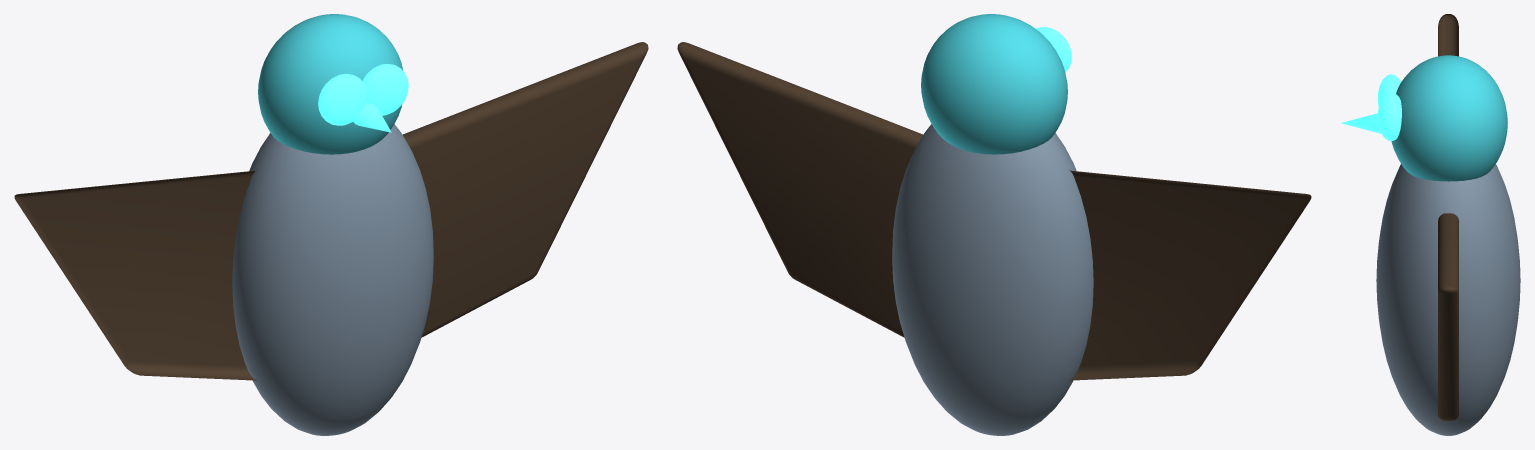
File: avian_v7.glb
The picture shows the model from 3 angles, left to right: view 1: azimuth 30°, elevation 25°; view 2: azimuth 150°, elevation 25°; view 3: azimuth 270°, elevation 25°; orthographic projection. The views are drawn at different scales.
Parts seen in each view (by area): view 1: HAWK_BODY_PRIMARY, HAWK_WING_SECONDARY.001, HAWK_WING_SECONDARY, HAWK_HEAD_ACCENT, EYE_EMISSIVE, EYE_EMISSIVE.001, HAWK_BEAK_EMISSIVE; view 2: HAWK_BODY_PRIMARY, HAWK_WING_SECONDARY.001, HAWK_WING_SECONDARY, HAWK_HEAD_ACCENT, EYE_EMISSIVE; view 3: HAWK_BODY_PRIMARY, HAWK_HEAD_ACCENT, HAWK_WING_SECONDARY.001, EYE_EMISSIVE.001, HAWK_WING_SECONDARY, HAWK_BEAK_EMISSIVE, EYE_EMISSIVE.
Part boxes in pixels (x1,y1,x2,y2): HAWK_BODY_PRIMARY: [232, 124, 433, 435]; HAWK_WING_SECONDARY.001: [403, 42, 648, 337]; HAWK_WING_SECONDARY: [14, 170, 256, 380]; HAWK_HEAD_ACCENT: [258, 14, 403, 154]; EYE_EMISSIVE: [318, 74, 367, 125]; EYE_EMISSIVE.001: [362, 63, 408, 115]; HAWK_BEAK_EMISSIVE: [353, 102, 391, 132]; HAWK_BODY_PRIMARY: [892, 124, 1093, 435]; HAWK_WING_SECONDARY.001: [677, 42, 922, 337]; HAWK_WING_SECONDARY: [1069, 170, 1311, 380]; HAWK_HEAD_ACCENT: [921, 14, 1067, 154]; EYE_EMISSIVE: [1035, 27, 1071, 72]; HAWK_BODY_PRIMARY: [1376, 164, 1520, 435]; HAWK_HEAD_ACCENT: [1391, 55, 1507, 181]; HAWK_WING_SECONDARY.001: [1438, 213, 1458, 420]; EYE_EMISSIVE.001: [1377, 92, 1401, 140]; HAWK_WING_SECONDARY: [1438, 14, 1458, 56]; HAWK_BEAK_EMISSIVE: [1341, 113, 1381, 133]; EYE_EMISSIVE: [1377, 74, 1400, 107].
Bounding box in the file's own units: 2.4 × 1.5 × 0.663.
